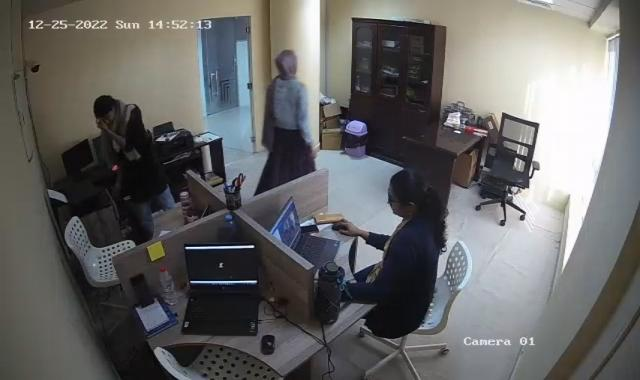no_hairnet: (384, 170, 426, 219), (92, 96, 119, 126), (274, 50, 298, 79)
